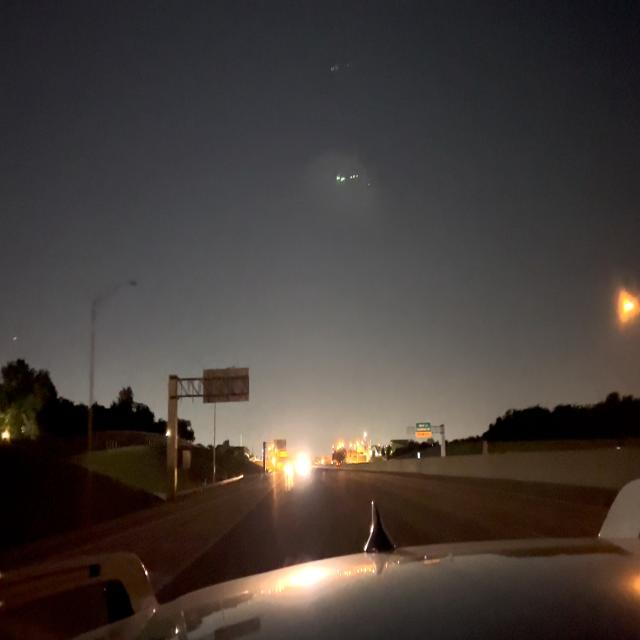back-of-sign: (203, 369, 249, 404)
